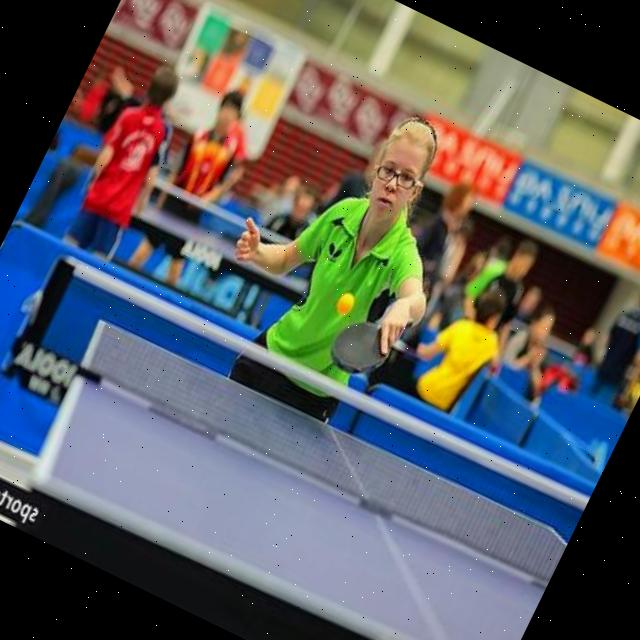ping-pong-ball: (332, 289, 357, 317)
